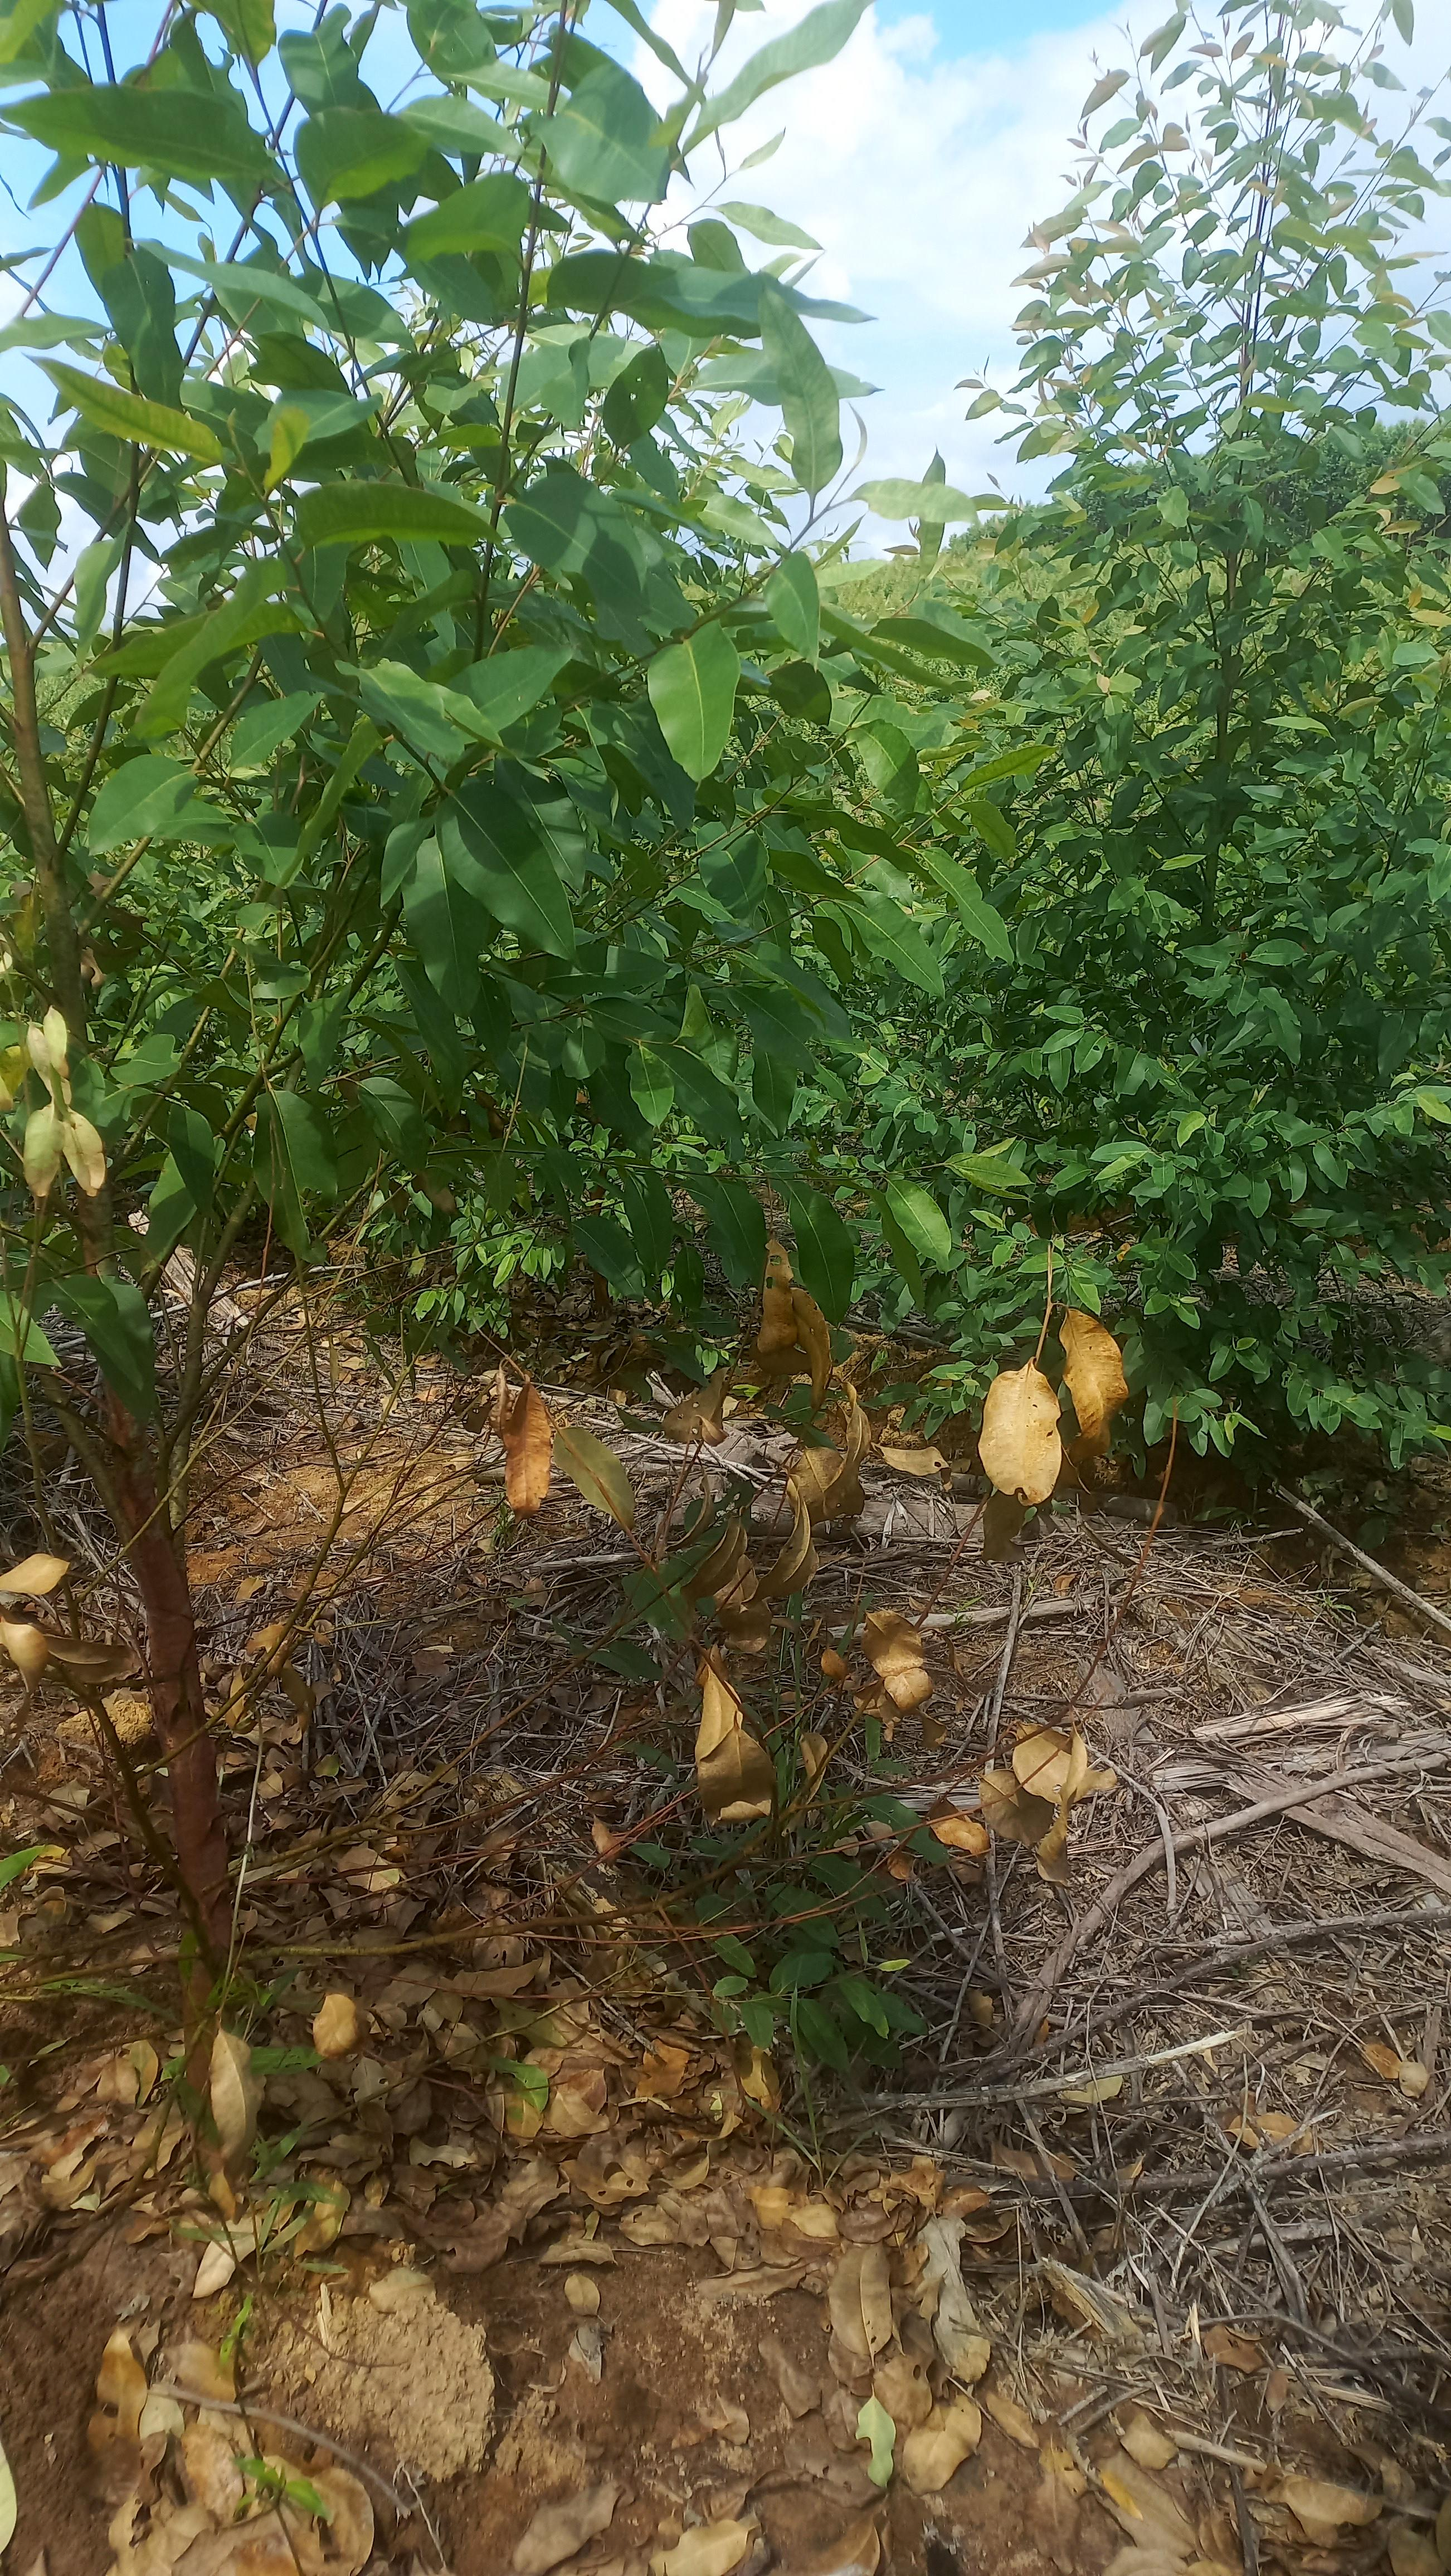Wither Tree Parts: (434, 1265, 1216, 1916), (0, 998, 191, 1767)
